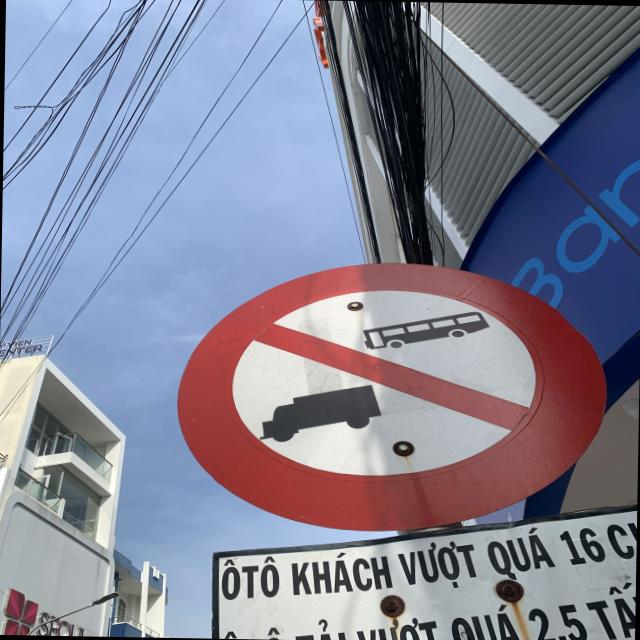Cam_XeTai_XeKhach: (173, 255, 610, 538)
